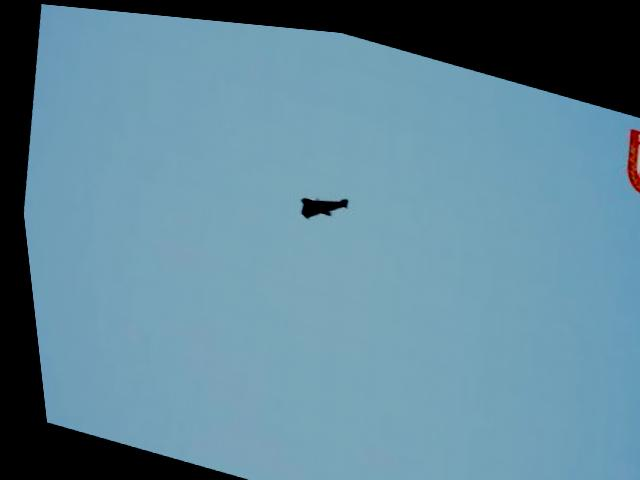uav: (289, 176, 351, 226)
